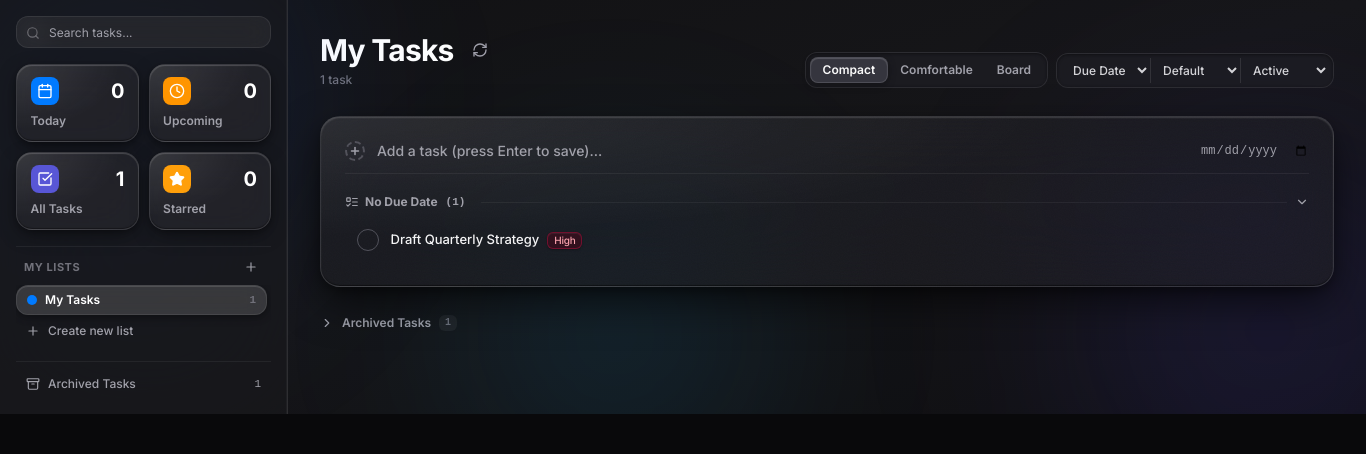
Test case: Deep Two-Way Synchronization & Calendar Polish Verification › renders TasksView, supports archiving completed tasks, and expands the collapsible archive section
Expected: the text "Draft Quarterly Strategy" is shown, [391,230,539,250]
Expected: the text "Archived Tasks" below "My Lists" is shown, [48,376,136,391]
// Expand Archived section
Click the text "Archived Tasks" below "Draft Quarterly Strategy". click: (387, 323)
box: [342,315,431,331]
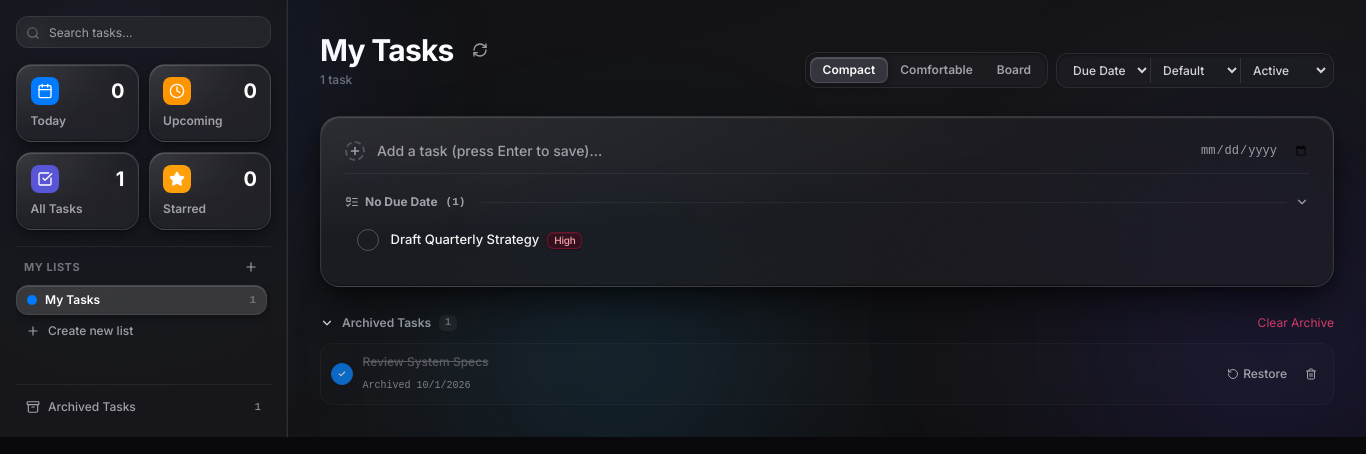
Now the text "Review System Specs" is shown, box [363,354,489,369]
